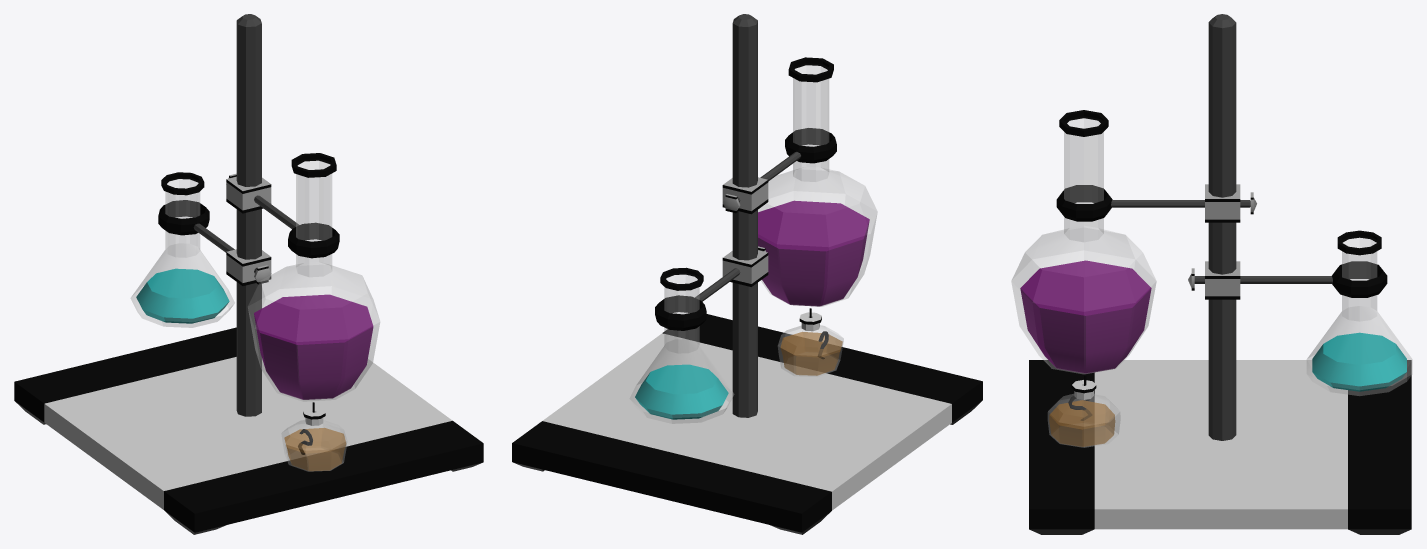
File: Apoio_02.fbx
The picture shows the model from 3 angles, left to right: view 1: azimuth 30°, elevation 25°; view 2: azimuth 150°, elevation 25°; view 3: azimuth 270°, elevation 25°; orthographic projection. The views are drawn at different scales.
Parts seen in each view (by area): view 1: polySurface131; view 2: polySurface131; view 3: polySurface131.
Boxes of the visible parts, x1=… form: polySurface131: x1=14, y1=14, x2=483, y2=534; polySurface131: x1=512, y1=14, x2=982, y2=534; polySurface131: x1=1011, y1=14, x2=1412, y2=534.
Bounding box in the file's own units: 0.9658 × 1.35 × 1.1.
